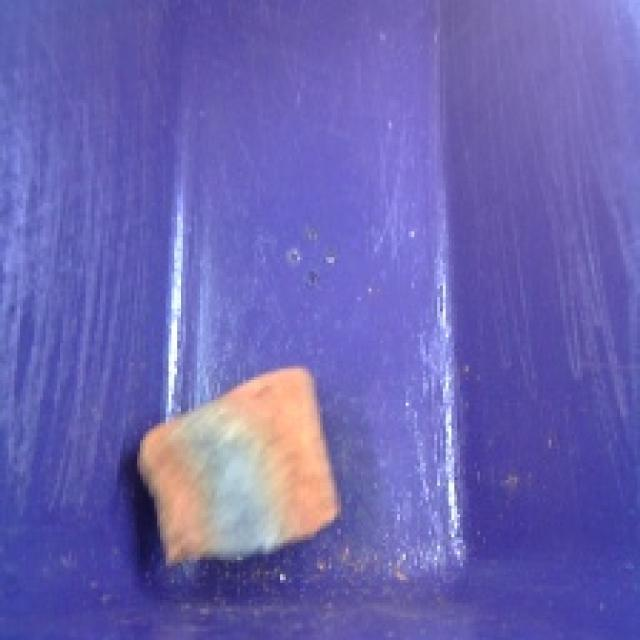brick: (112, 358, 349, 585)
